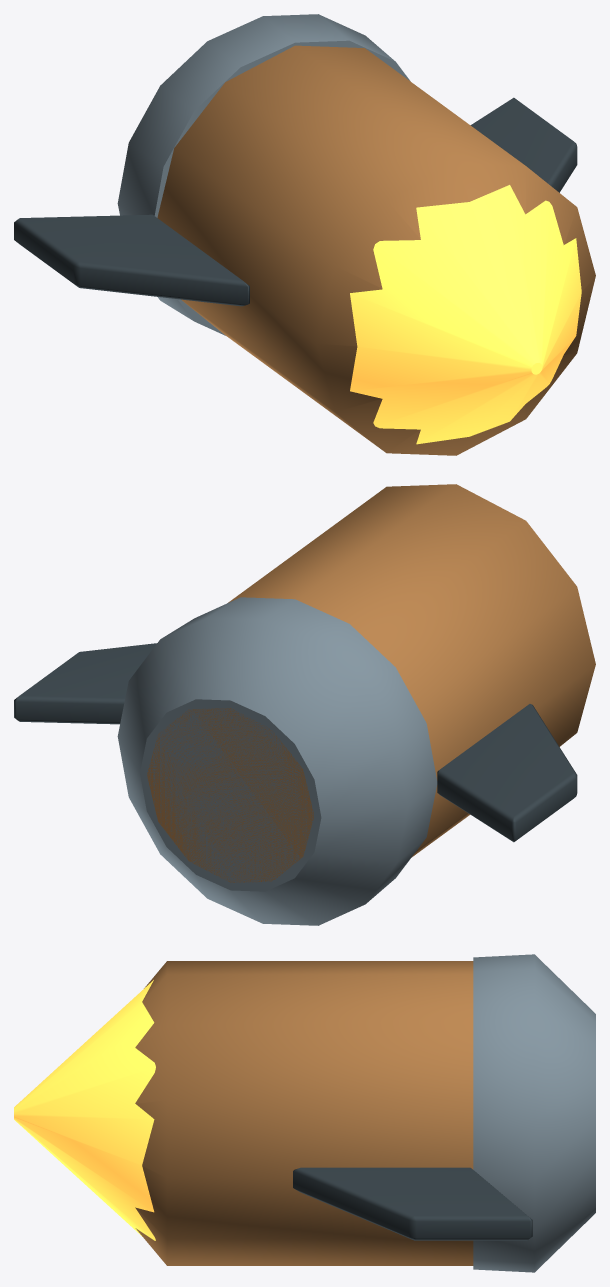
File: zb_sidegun.glb
3 renders of one model, top to bottom at view 1: azimuth 30°, elevation 25°; view 2: azimuth 150°, elevation 25°; view 3: azimuth 270°, elevation 25°, orthographic. The views are drawn at different scales.
Parts seen in each view (by area): view 1: zb_sidegun / Copper driving band, zb_sidegun / Tracer ember, zb_sidegun / Carbon ceramic, zb_sidegun / Machined titanium; view 2: zb_sidegun / Machined titanium, zb_sidegun / Copper driving band, zb_sidegun / Carbon ceramic; view 3: zb_sidegun / Copper driving band, zb_sidegun / Machined titanium, zb_sidegun / Tracer ember, zb_sidegun / Carbon ceramic.
Part boxes in pixels (bbox=[...]): zb_sidegun / Copper driving band: bbox=[157, 45, 595, 455]; zb_sidegun / Tracer ember: bbox=[350, 185, 581, 444]; zb_sidegun / Carbon ceramic: bbox=[14, 97, 577, 306]; zb_sidegun / Machined titanium: bbox=[117, 14, 410, 335]; zb_sidegun / Machined titanium: bbox=[117, 597, 437, 925]; zb_sidegun / Copper driving band: bbox=[147, 484, 595, 882]; zb_sidegun / Carbon ceramic: bbox=[14, 643, 577, 842]; zb_sidegun / Copper driving band: bbox=[135, 961, 473, 1265]; zb_sidegun / Machined titanium: bbox=[473, 954, 595, 1272]; zb_sidegun / Tracer ember: bbox=[14, 980, 155, 1240]; zb_sidegun / Carbon ceramic: bbox=[293, 1167, 532, 1240].
Size of the model in its own units: 9 by 5.2 by 9.5.
